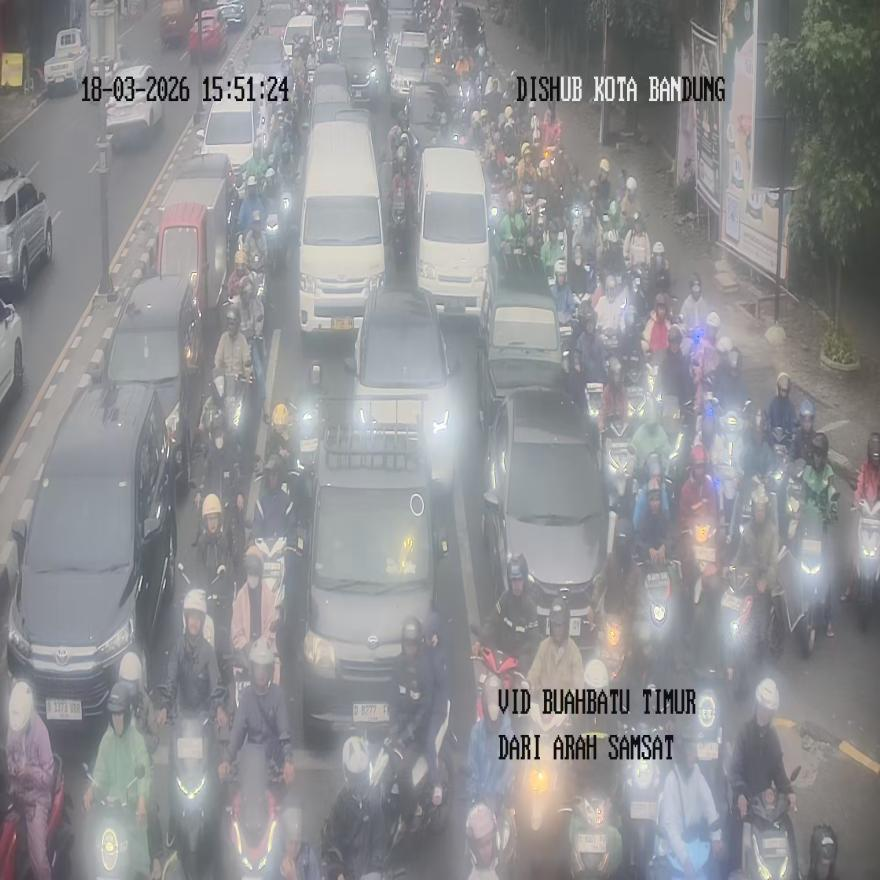Bis: (297, 109, 386, 336)
Motor: (6, 380, 177, 727), (299, 425, 448, 746), (483, 386, 616, 640), (347, 280, 457, 489), (0, 160, 53, 293)
